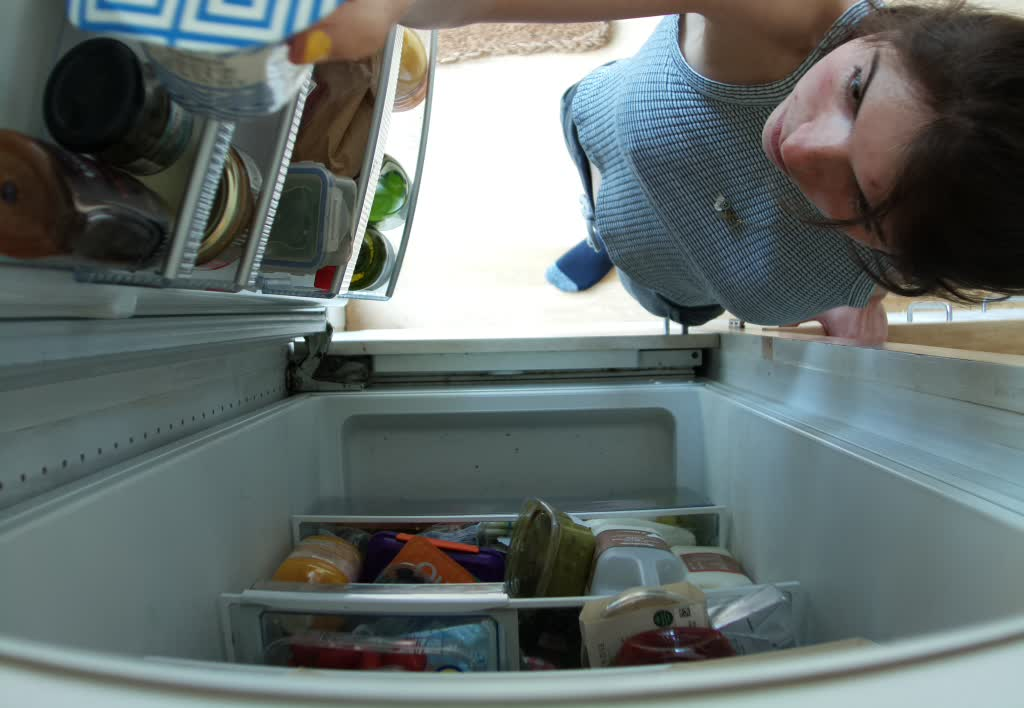yogurt: (66, 1, 342, 117)
